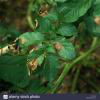Potato leaf late blight: (52, 35, 77, 61), (25, 48, 44, 77), (18, 31, 45, 46), (33, 17, 55, 35)
